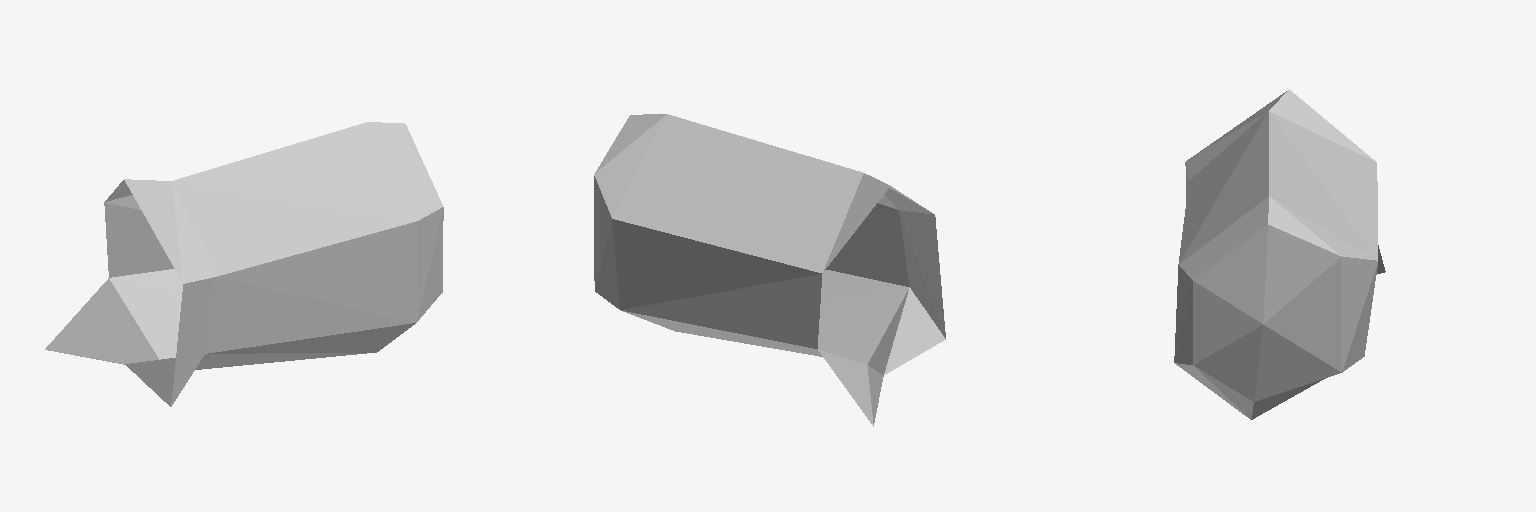
Rendered from meshRightArm2_MacmeshRightArm1.obj.
3 views of the same model, side by side, from view 1: azimuth 30°, elevation 25°; view 2: azimuth 150°, elevation 25°; view 3: azimuth 270°, elevation 25° (orthographic).
Parts seen in each view (by area): view 1: node_Scene_142_mesh_mesh0; view 2: node_Scene_142_mesh_mesh0; view 3: node_Scene_142_mesh_mesh0.
Part boxes in pixels (left/top/right/bottom): node_Scene_142_mesh_mesh0: left=45, top=122, right=443, bottom=406; node_Scene_142_mesh_mesh0: left=594, top=114, right=945, bottom=426; node_Scene_142_mesh_mesh0: left=1174, top=89, right=1385, bottom=419.
Bounding box in the file's own units: 0.2305 × 0.1556 × 0.1331.